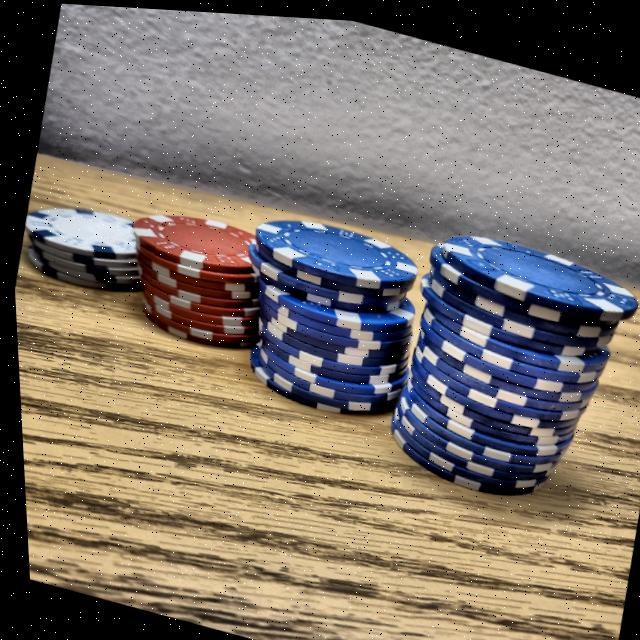Chip: (353, 200, 640, 529), (214, 185, 444, 449), (97, 166, 284, 375), (11, 187, 160, 306)
